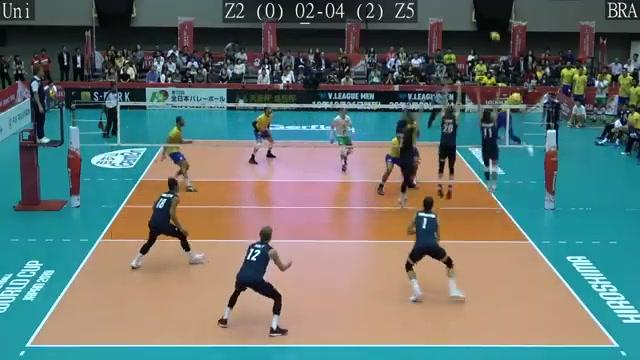ball: (487, 30, 503, 46)
